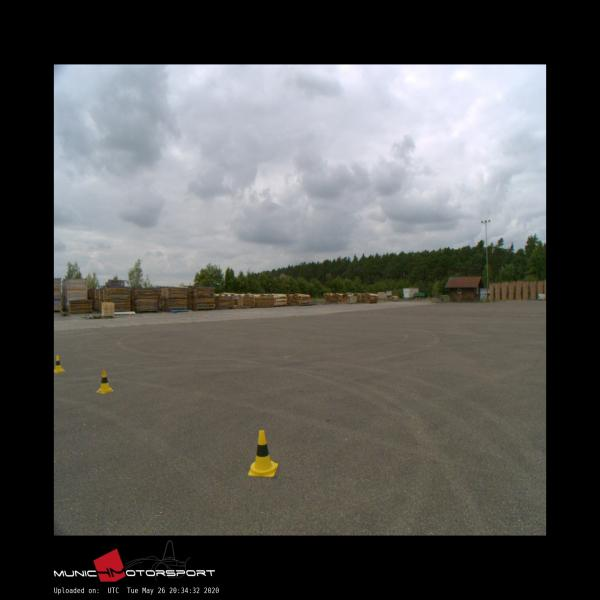yellow_cone: (248, 430, 277, 476), (96, 369, 113, 393), (54, 355, 64, 372)
